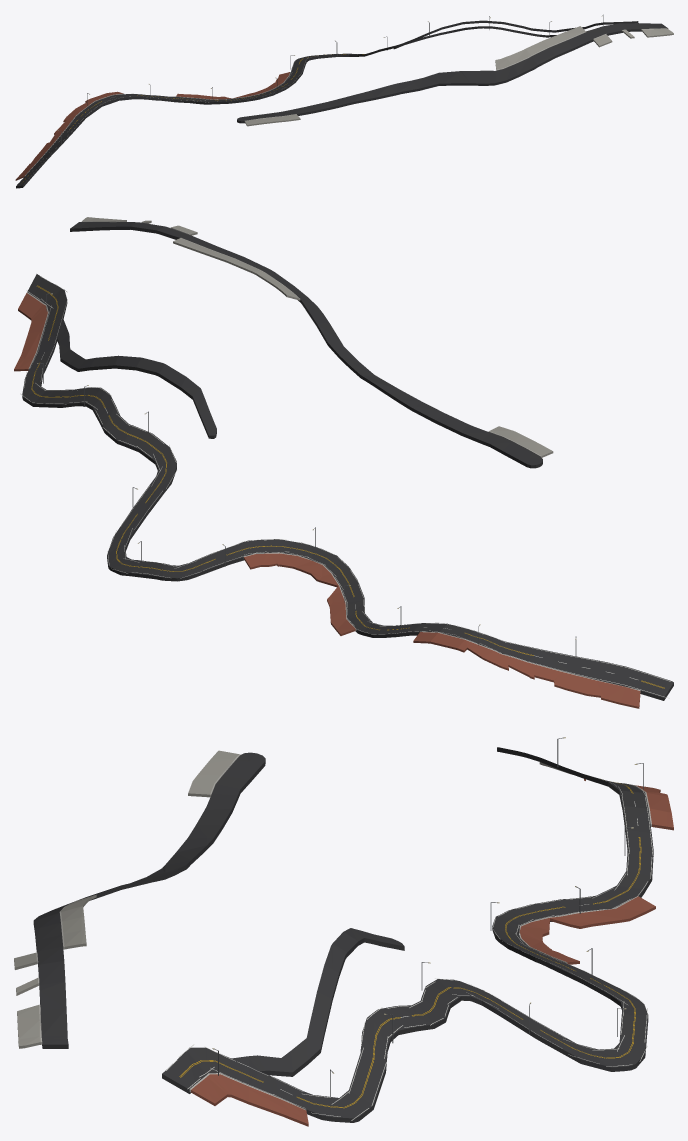
The picture shows the model from 3 angles, top to bottom: view 1: azimuth 30°, elevation 25°; view 2: azimuth 150°, elevation 25°; view 3: azimuth 270°, elevation 25°; orthographic projection. The views are drawn at different scales.
Size of the model in its own units: 296 by 70.11 by 158.
